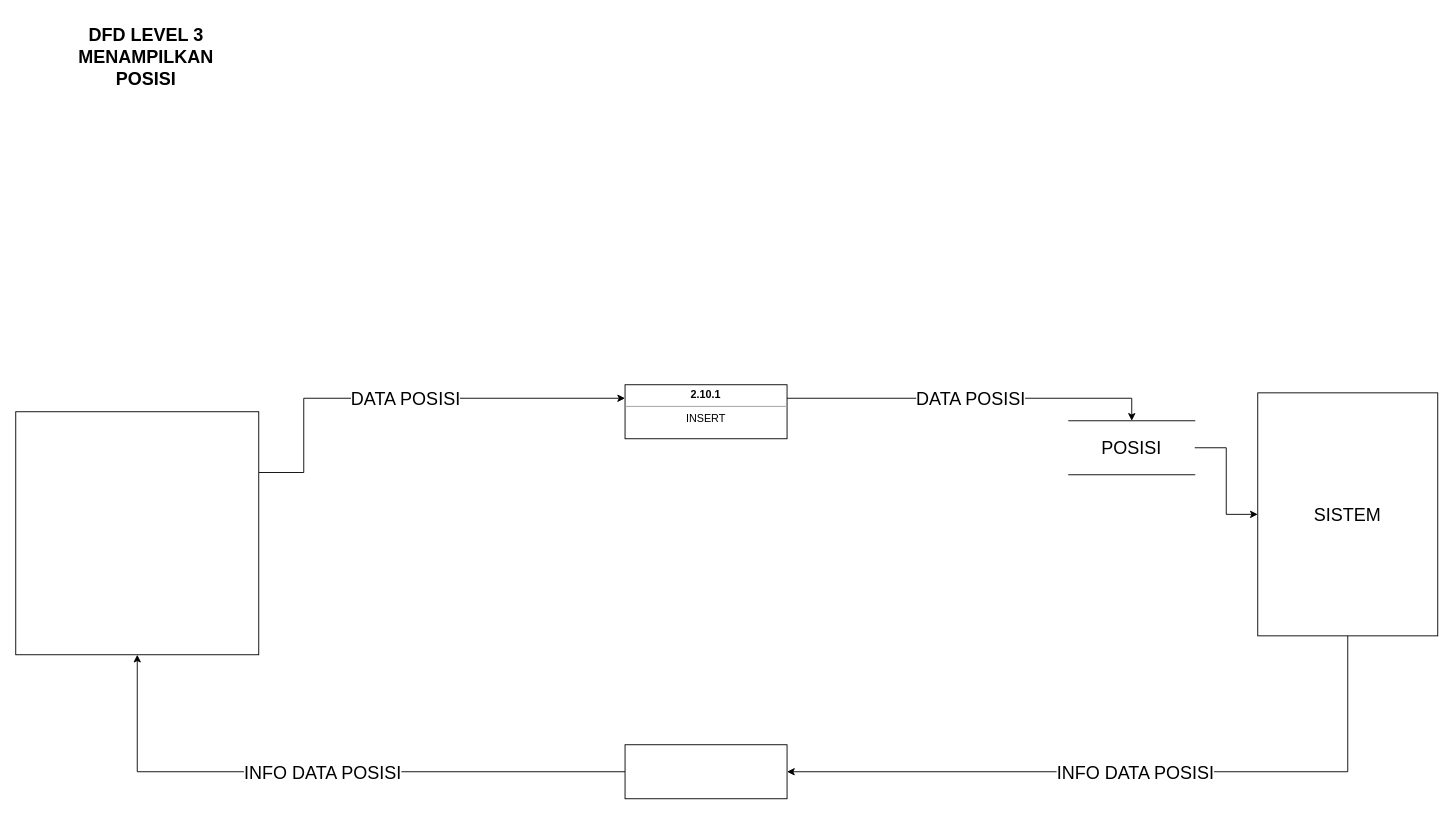
Some shapes in this 1454 by 815 pixel diagram are drawn without their labels. Here are the shapes that lost their labels. From the top down, the centre of each, then its label:
[137,533]: MENAMPILKAN POSISI
[705,771]: 2.10.2 VIEW
